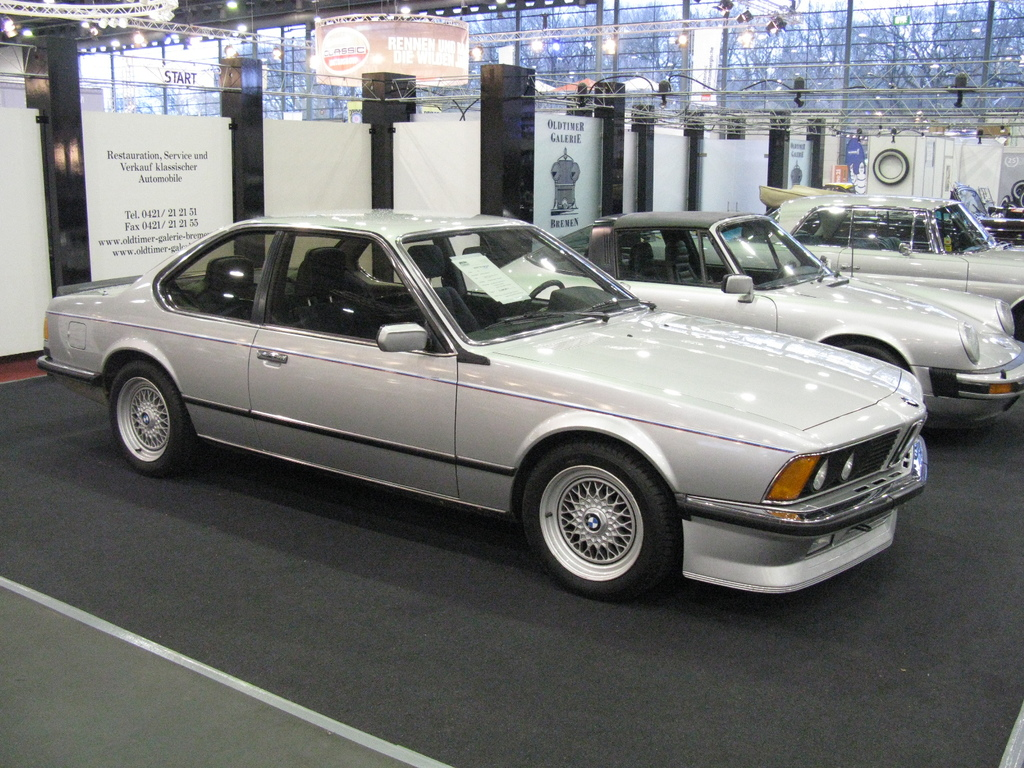Car: (28, 204, 925, 600), (531, 210, 1023, 421), (727, 192, 1023, 323)
